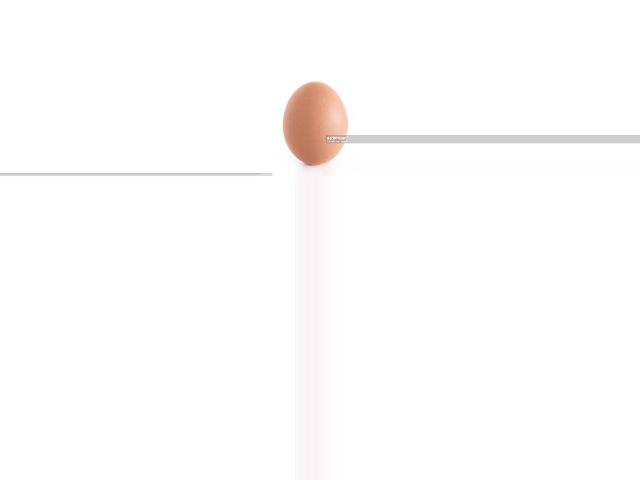egg: (283, 81, 348, 163)
